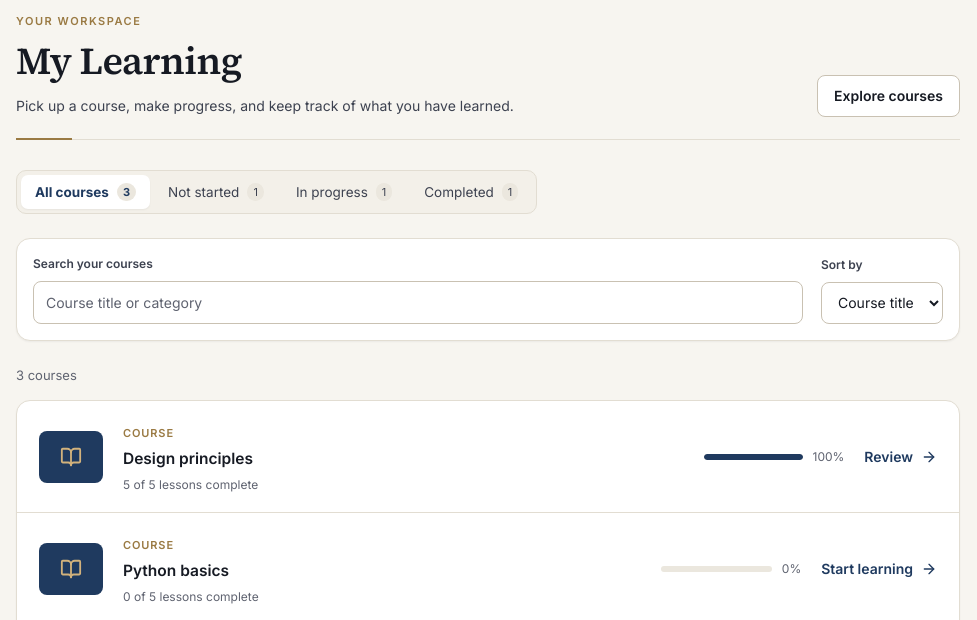
Test: filters enrolled courses by progress and lets the learner restore its saved visit
The width and height of the screenshot is (977, 620).
Step 1. Click the button "In progress 1" → (344, 192), box [282,175,406,209]
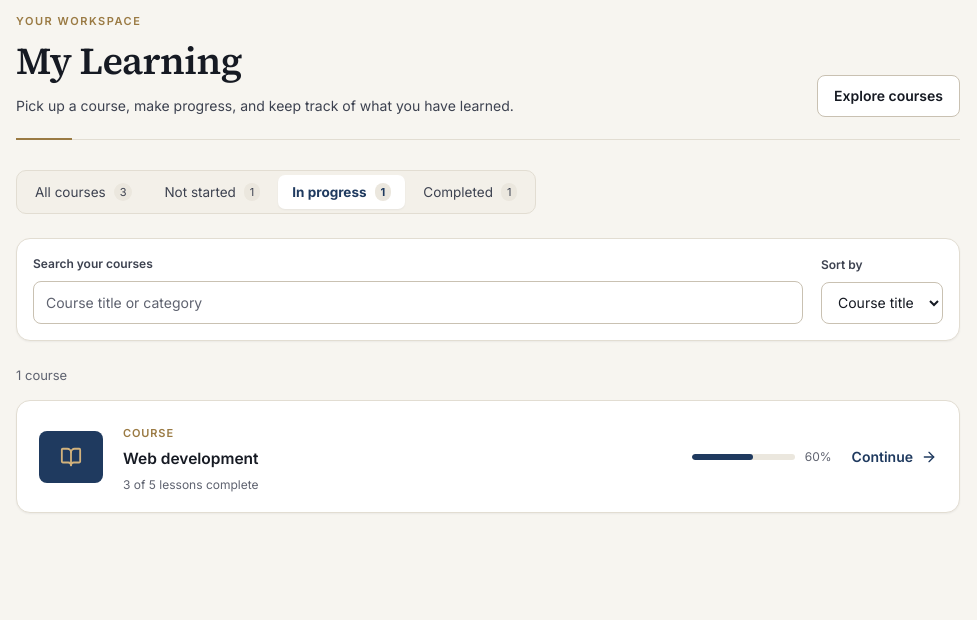
Now the link "Python basics" is gone
Now the link "Design principles" is gone
